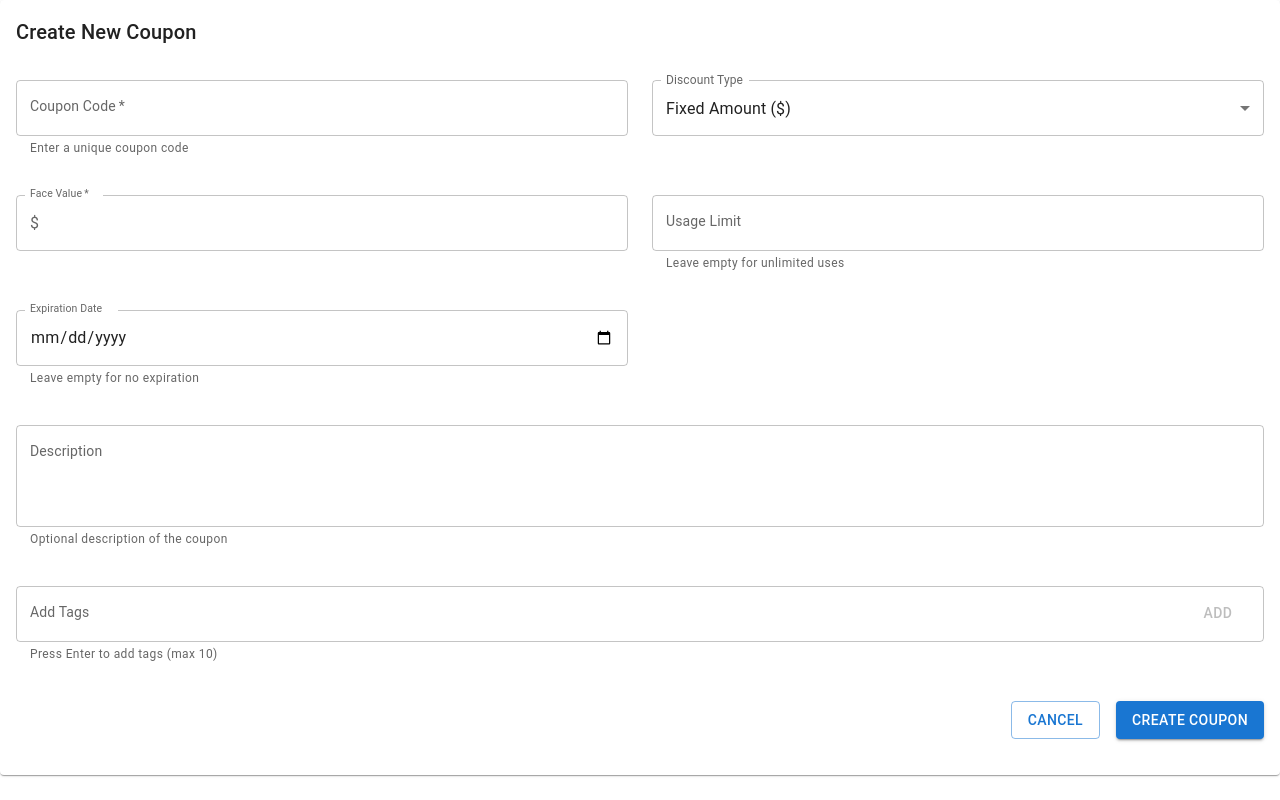
Test: CouponForm Basic Tests › validates coupon code format
Note: Test too short
Type "AB" into the field labelled "Coupon Code *" at {"x": 322, "y": 108}, box [16,80,628,136]
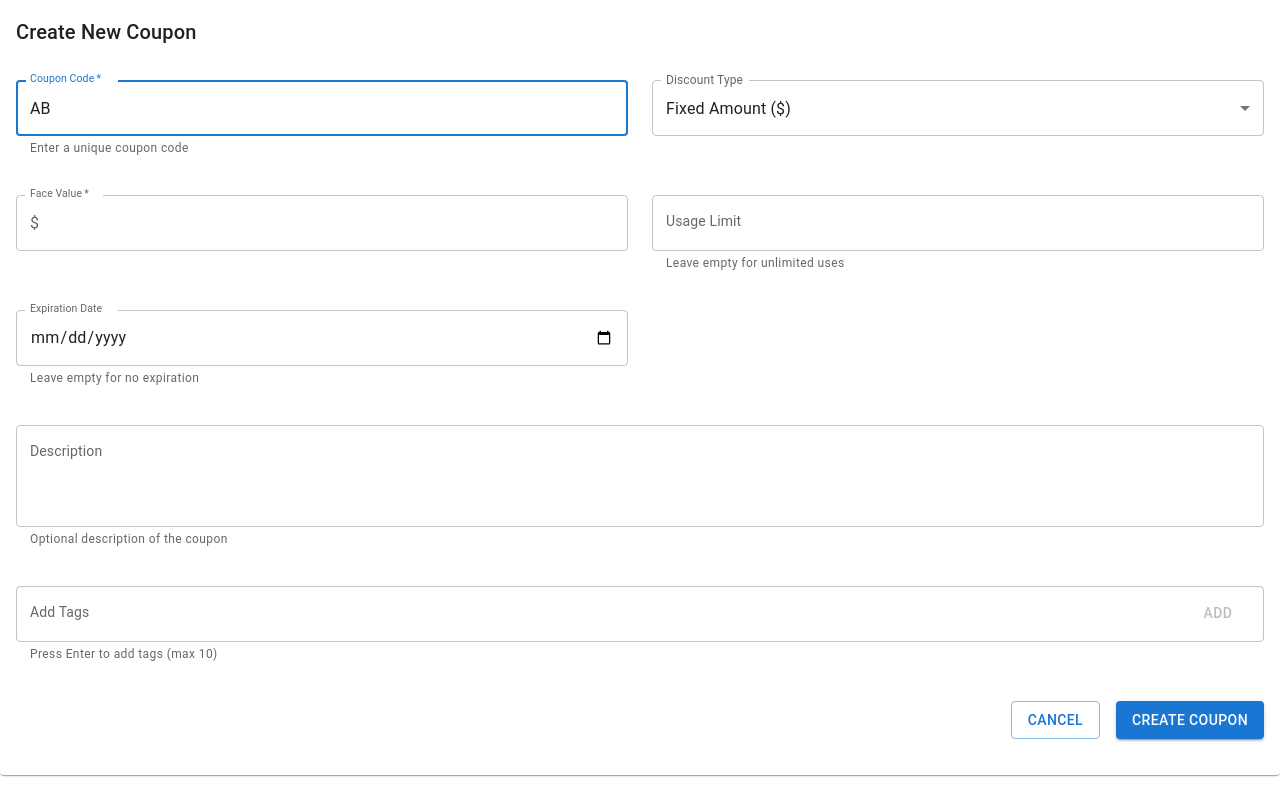
Click the button "Create Coupon" at {"x": 1190, "y": 720}, box [1116,700,1264,739]
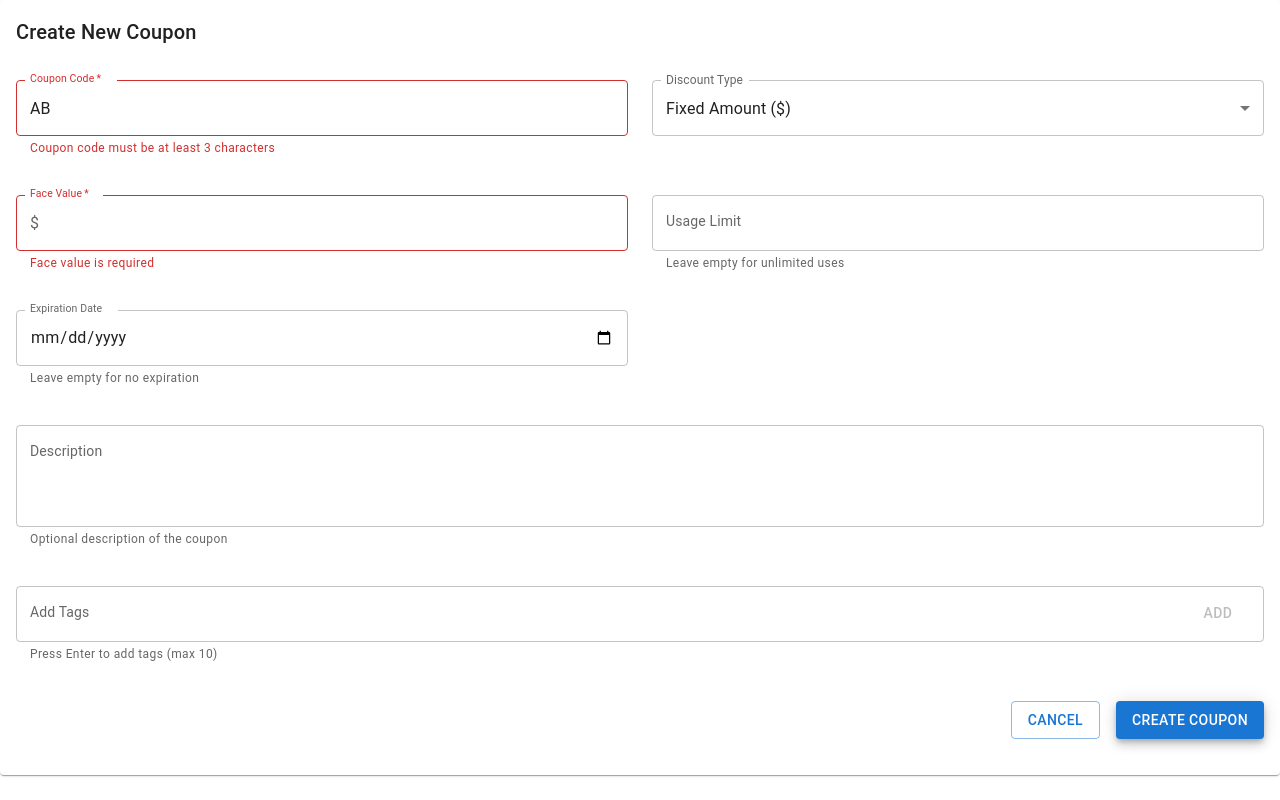
Expected: the text "Coupon code must be at least 3 characters" is shown, [30,141,275,155]
